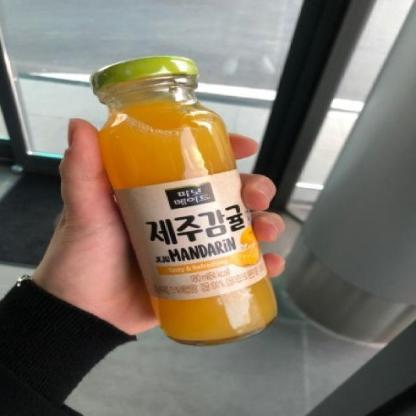Glass Bottle: (90, 57, 278, 347)
